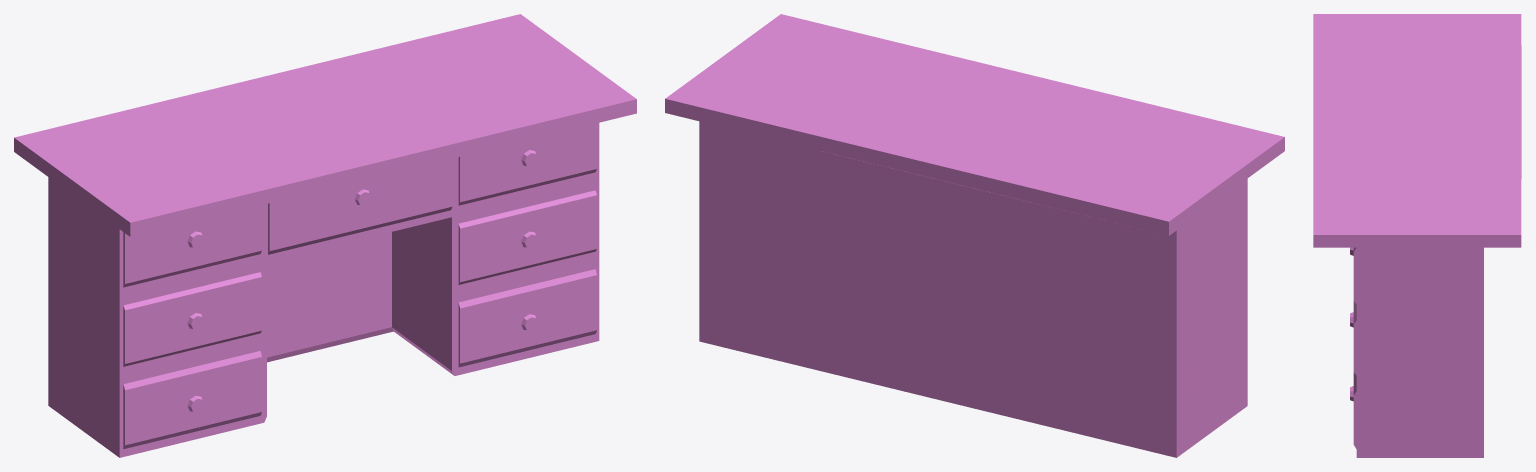
File: Escrivaninha1Low.fbx
The picture shows the model from 3 angles, left to right: view 1: azimuth 30°, elevation 25°; view 2: azimuth 150°, elevation 25°; view 3: azimuth 270°, elevation 25°; orthographic projection. The views are drawn at different scales.
Visible parts, largest first — view 1: Cube.051; view 2: Cube.051; view 3: Cube.051.
Boxes of the visible parts, bbox=[...] form: Cube.051: bbox=[14, 14, 636, 457]; Cube.051: bbox=[665, 14, 1284, 457]; Cube.051: bbox=[1313, 14, 1521, 457].
Size of the model in its own units: 186 by 90.08 by 74.27.
